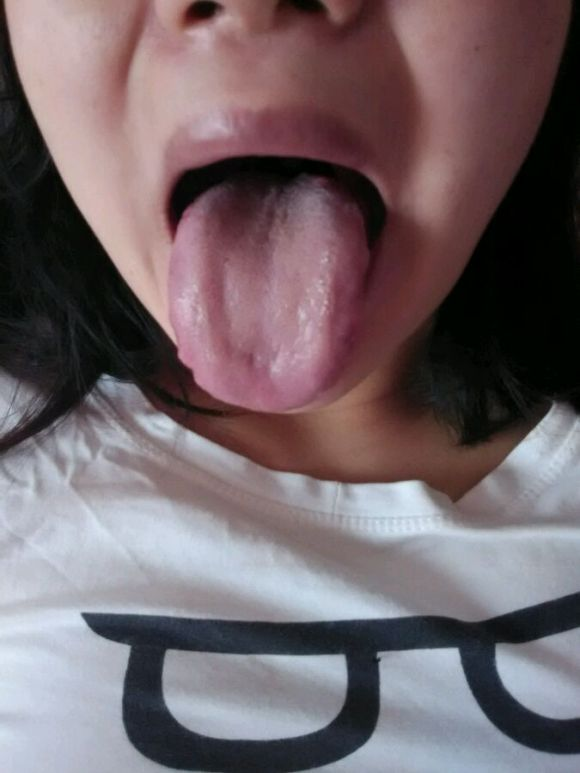baitaishe: (169, 173, 370, 410)
liewenshe: (259, 184, 291, 246)
